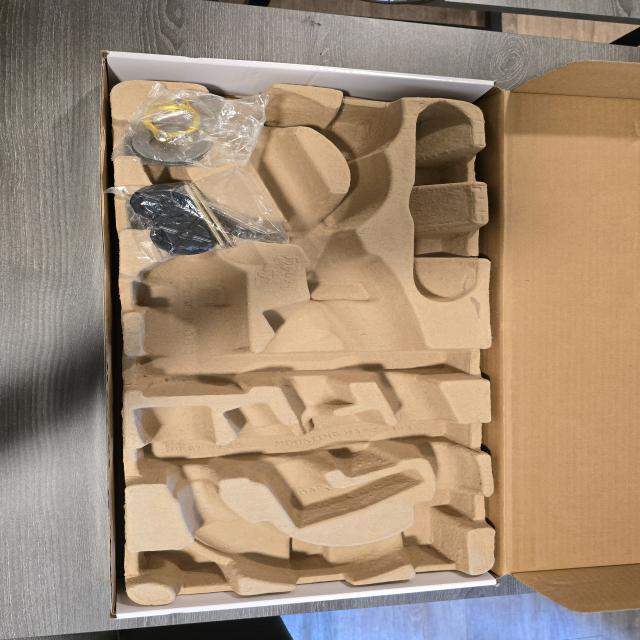1m: (136, 82, 477, 583)
2m: (223, 404, 422, 527)
3m: (139, 237, 245, 396)
4m: (408, 100, 476, 302)
5m: (327, 108, 392, 156)
6: (110, 82, 267, 168)
7: (106, 164, 294, 269)
